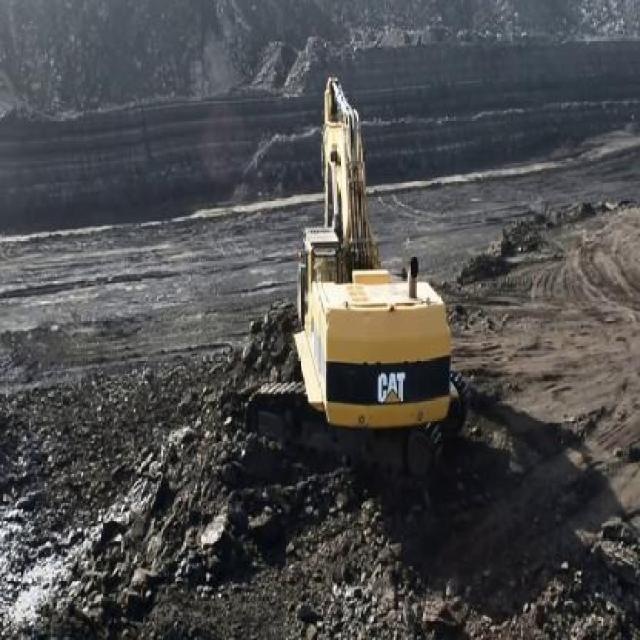Excavator: (245, 72, 461, 479)
